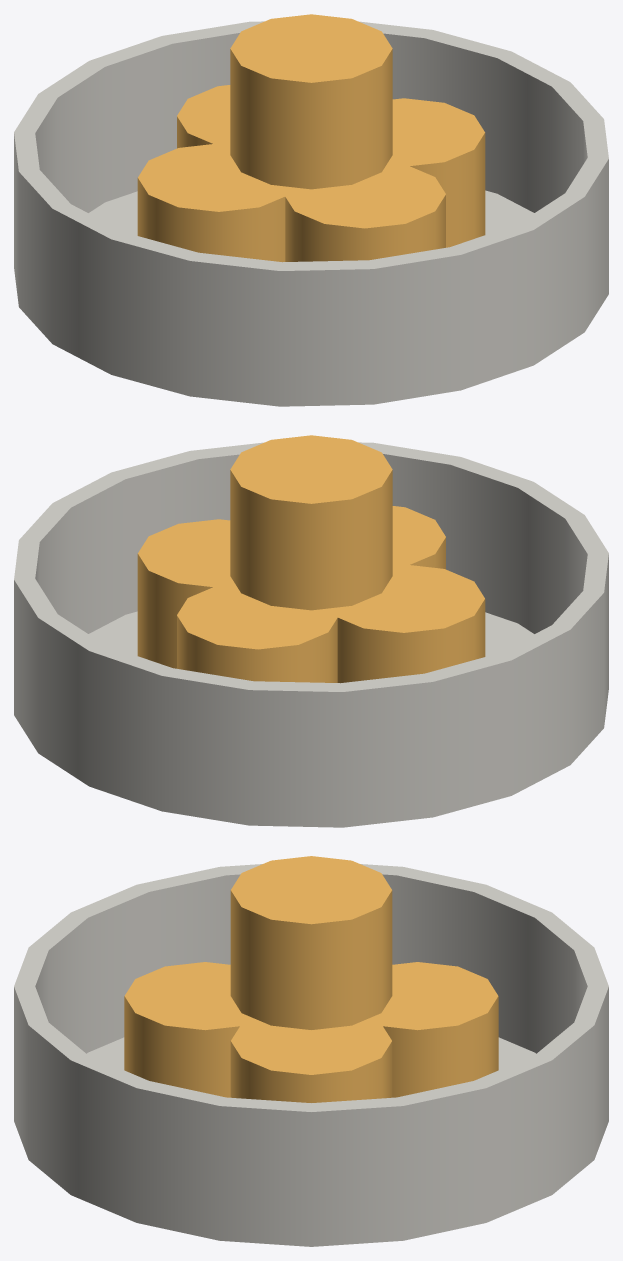
File: bb_set_fruitbowl.fbx
3 views of the same model, one above another, from view 1: azimuth 30°, elevation 25°; view 2: azimuth 150°, elevation 25°; view 3: azimuth 270°, elevation 25° (orthographic).
Visible parts, largest first — view 1: bb_set_fruitbowl; view 2: bb_set_fruitbowl; view 3: bb_set_fruitbowl.
Part boxes in pixels (x1,y1,x2,y2): bb_set_fruitbowl: [14, 14, 608, 406]; bb_set_fruitbowl: [14, 435, 608, 827]; bb_set_fruitbowl: [14, 856, 608, 1246].
Bounding box in the file's own units: 0.28 × 0.13 × 0.28.
